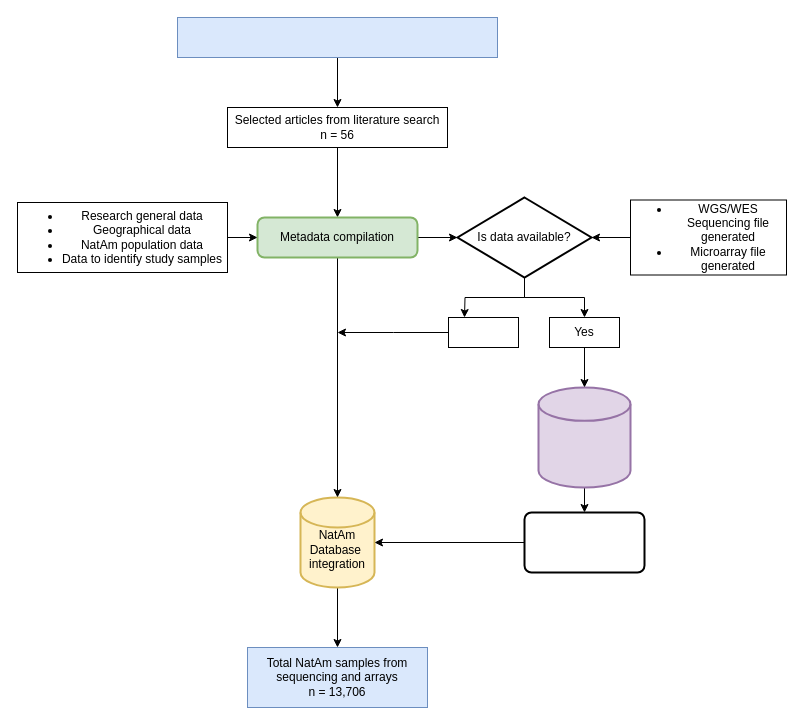
Image size: 804x725. Some labels were removed from this diagram. The shapes that lost their labels are listed below. From the top down, each one's box as (x1, y1, x2, y2) in pixels, then its label:
(176, 16, 498, 58): Methodology for integrating NatAm database
(448, 316, 518, 348): No
(537, 386, 631, 488): Sample search in public database
(523, 511, 645, 573): Search for sample download links
